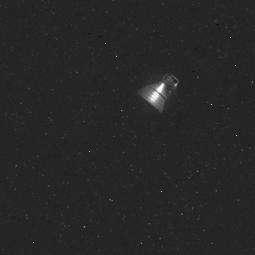debris: (130, 73, 183, 115)
